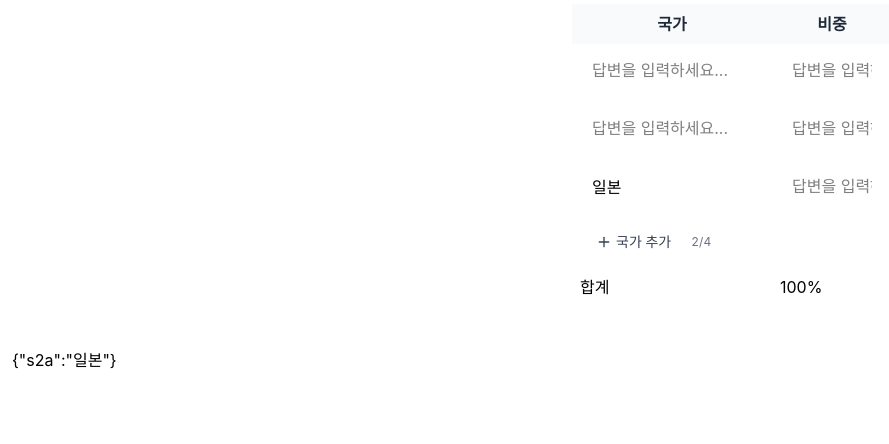
행 차례로 열기 — 응답 화면 › 처음 보이는 행 수에서는 − 가 없다 — 그 아래로는 닫히지 않는다
This screenshot has width=889, height=444.
Check: the button "마지막 줄 삭제" is not shown
Click the button "국가 추가": click(634, 242) [584,226,683,258]
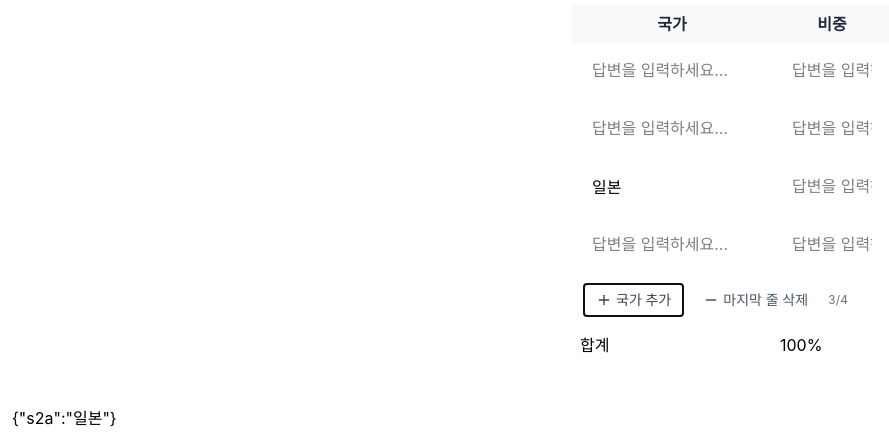
Click the button "마지막 줄 삭제": click(756, 300) [691,284,820,316]
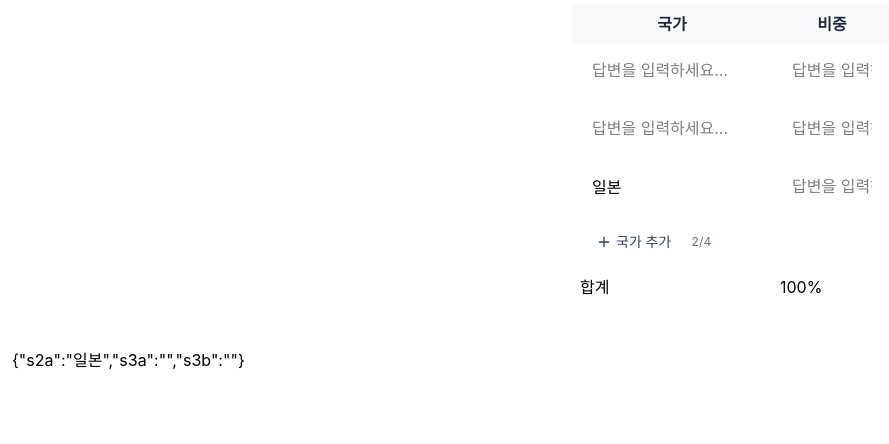
Check: the button "마지막 줄 삭제" is gone
